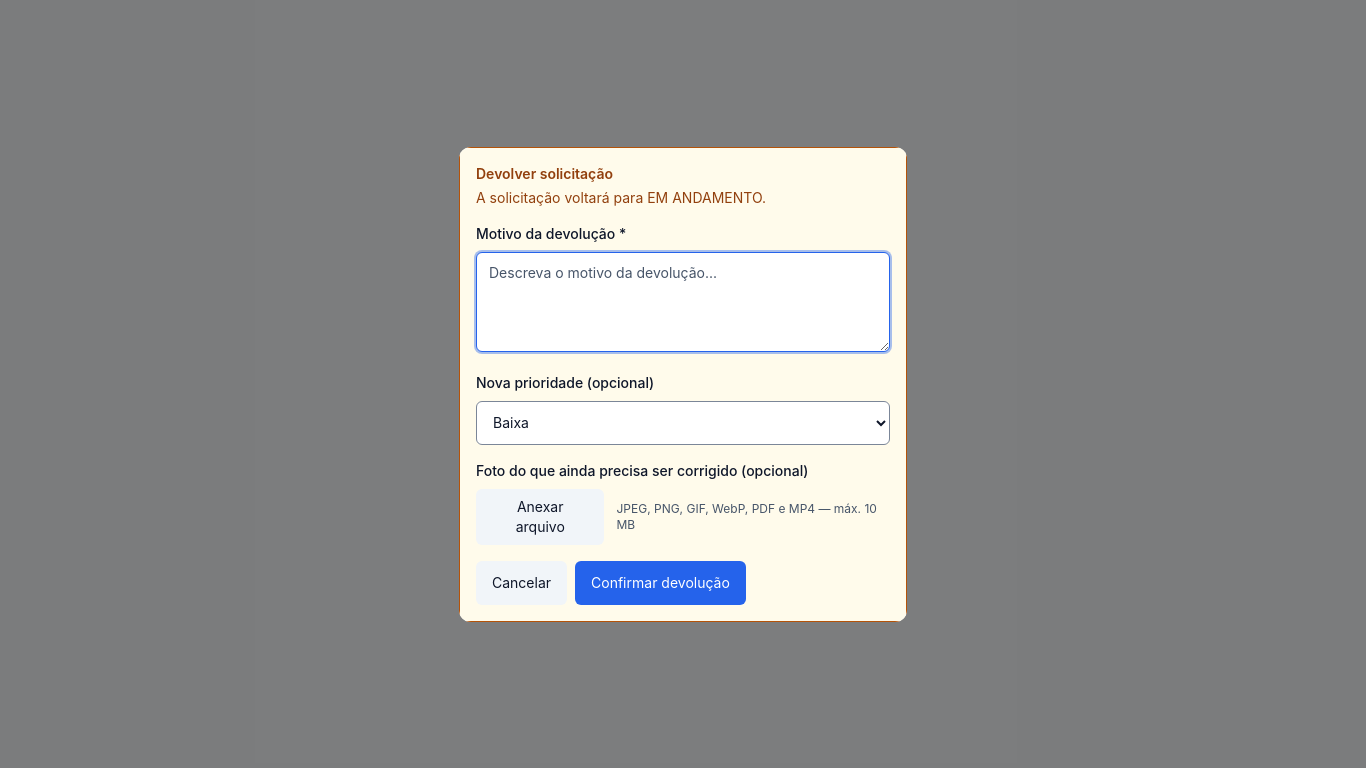
Scenario: DialogoDaAcao › deve perguntar antes de descartar quando o clique é fora com algo preenchido
Type "Solda incompleta" into the text box labelled "Motivo da devolução *". click: (683, 302)
box: x1=476 y1=252 x2=890 y2=352
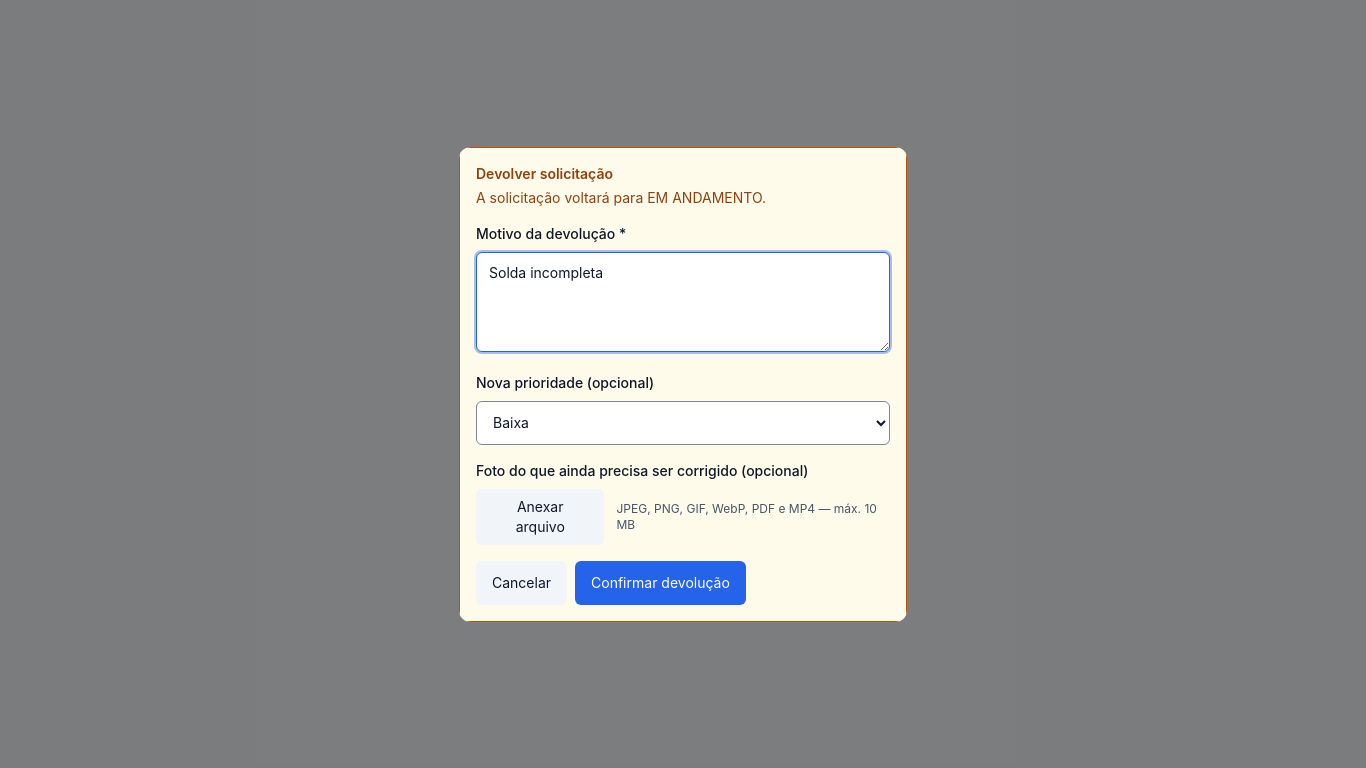
Click the element that starts with "Devolver solicitação". click: (82, 384)
box: x1=0 y1=0 x2=1365 y2=767
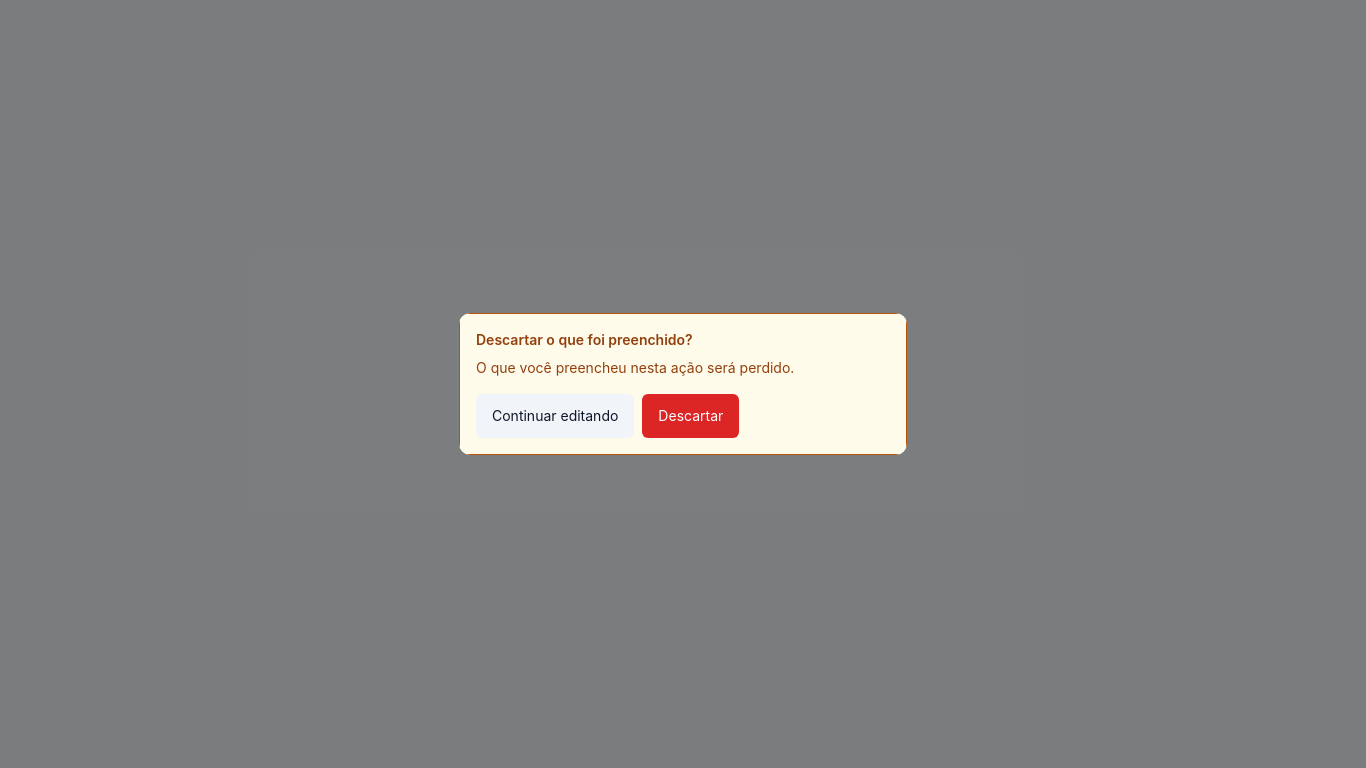
Check: the heading "Descartar o que foi preenchido?" is shown, box x1=476 y1=331 x2=693 y2=348
